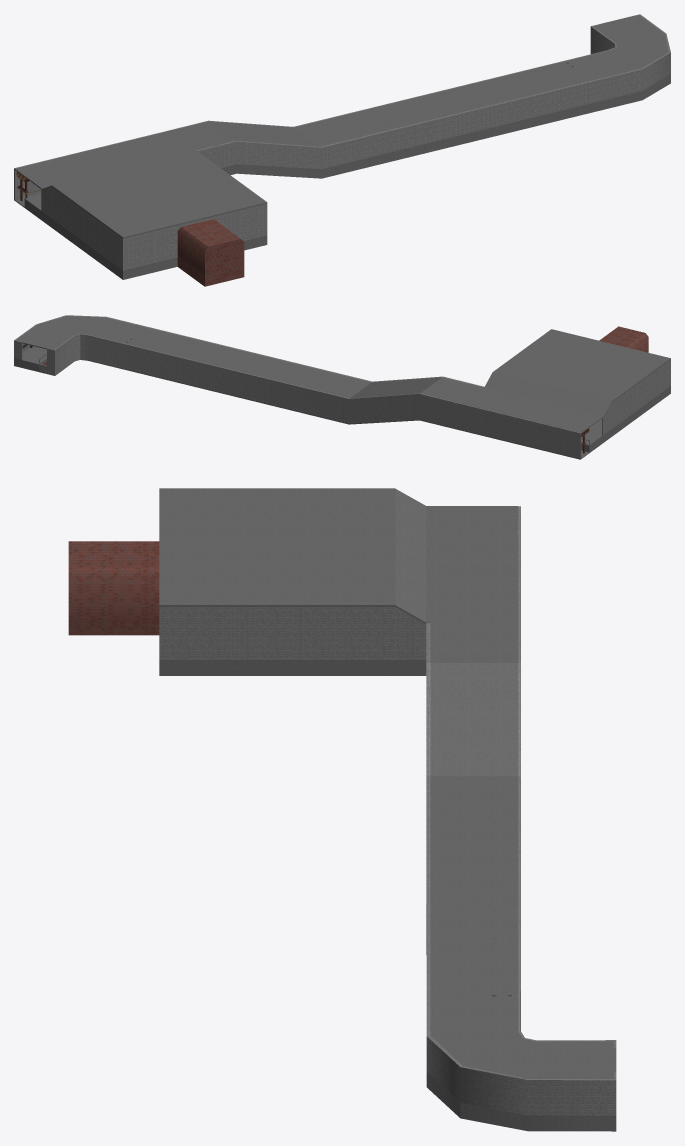
Rendered from LargeLab.fbx.
3 views of the same model, one above another, from view 1: azimuth 30°, elevation 25°; view 2: azimuth 150°, elevation 25°; view 3: azimuth 270°, elevation 25° (orthographic). The views are drawn at different scales.
Visible parts, largest first — view 1: Cube.106, Cube.142, Cube.177; view 2: Cube.106, Cube.142, Cube.177; view 3: Cube.106, Cube.142, Cube.177.
Part boxes in pixels (<box>): Cube.106: <box>14,15,670,279</box>; Cube.142: <box>14,14,670,270</box>; Cube.177: <box>177,219,244,286</box>; Cube.106: <box>14,316,670,459</box>; Cube.142: <box>14,315,670,458</box>; Cube.177: <box>599,326,648,352</box>; Cube.106: <box>159,488,616,1131</box>; Cube.142: <box>159,506,616,1115</box>; Cube.177: <box>68,541,159,635</box>.
Bounding box in the file's own units: 17552 × 1773 × 7665.
